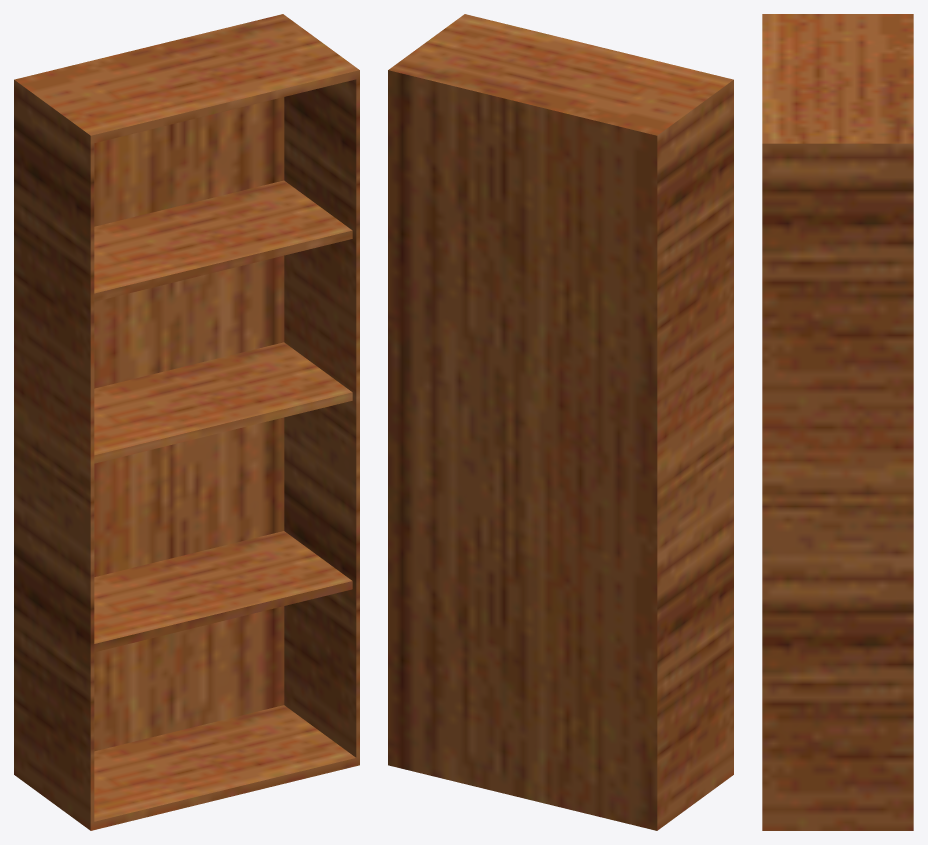
Rendered from book_case_with_back_Small.fbx.
3 views of the same model, side by side, from view 1: azimuth 30°, elevation 25°; view 2: azimuth 150°, elevation 25°; view 3: azimuth 270°, elevation 25° (orthographic).
Parts seen in each view (by area): view 1: book_case_with_back_Small; view 2: book_case_with_back_Small; view 3: book_case_with_back_Small.
Part boxes in pixels (x1,y1,x2,y2): book_case_with_back_Small: [14, 14, 359, 830]; book_case_with_back_Small: [388, 14, 733, 830]; book_case_with_back_Small: [762, 14, 913, 830].
Size of the model in its own units: 101 by 250 by 50.
1 material, 1 textured.
